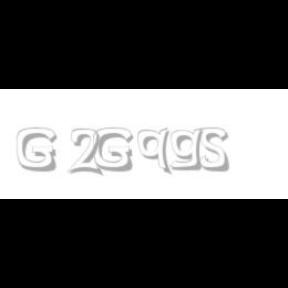2: (67, 128, 101, 176)
G: (17, 128, 57, 172), (93, 128, 133, 172)
S: (200, 128, 230, 172)
g: (170, 128, 206, 171)
q: (137, 128, 173, 176)
